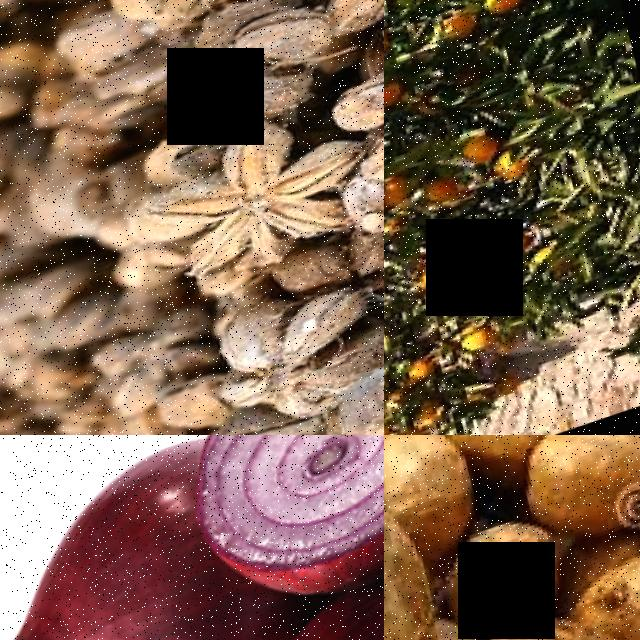onion: (0, 435, 272, 640), (168, 435, 384, 621), (226, 529, 384, 640)
orange: (459, 140, 501, 177), (459, 329, 499, 363), (476, 0, 522, 26)
peanuts: (384, 435, 473, 640), (512, 435, 640, 563)
